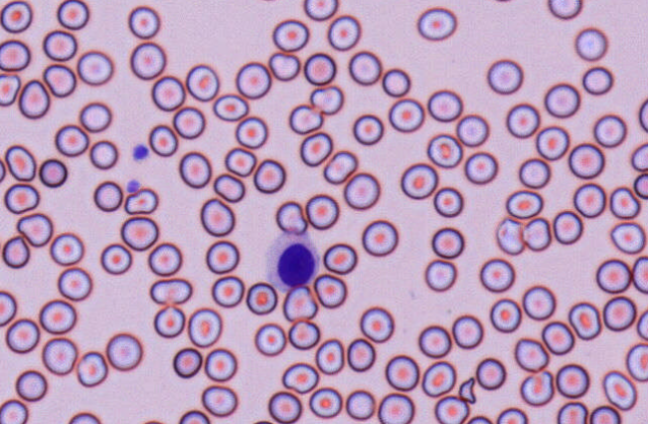MONO: (264, 231, 324, 292)
PLT: (131, 144, 149, 161), (125, 179, 141, 194)
RBC: (105, 332, 143, 371), (129, 41, 166, 80), (416, 6, 457, 41), (400, 162, 438, 199), (343, 172, 380, 210), (187, 307, 222, 347), (602, 370, 637, 410), (361, 219, 398, 256), (235, 61, 271, 99), (41, 337, 77, 375), (120, 215, 158, 251), (76, 49, 113, 85), (486, 58, 523, 94), (568, 142, 604, 179), (38, 299, 76, 334), (200, 197, 234, 236), (544, 82, 580, 118), (384, 354, 419, 391), (421, 360, 456, 397), (359, 305, 394, 342), (18, 79, 50, 119), (519, 370, 554, 406), (5, 317, 40, 353), (426, 133, 462, 168), (595, 258, 631, 293), (185, 64, 219, 101), (272, 18, 309, 52), (57, 266, 92, 301), (479, 257, 514, 292), (305, 193, 339, 229), (151, 75, 185, 111), (602, 295, 636, 331), (505, 102, 539, 138), (327, 14, 361, 50), (388, 98, 424, 132), (201, 384, 238, 417), (178, 151, 211, 188), (535, 125, 569, 160), (147, 242, 182, 276), (514, 337, 548, 372), (555, 363, 589, 398), (522, 284, 555, 320), (573, 182, 606, 218), (76, 350, 108, 387), (4, 144, 36, 181), (205, 240, 239, 274), (455, 113, 489, 147), (234, 115, 268, 149), (593, 113, 627, 147), (574, 27, 608, 61), (541, 320, 574, 355), (313, 273, 346, 308), (299, 131, 332, 166), (49, 232, 84, 265), (204, 347, 237, 382), (267, 390, 302, 423), (427, 89, 462, 122), (348, 50, 381, 85), (610, 221, 645, 254), (377, 392, 414, 423), (464, 151, 498, 184), (418, 324, 451, 358), (172, 105, 205, 139), (127, 5, 160, 39), (42, 29, 77, 61), (322, 242, 357, 274), (451, 314, 483, 349), (489, 297, 521, 332), (505, 189, 543, 218), (99, 242, 132, 275), (303, 52, 336, 85), (254, 322, 286, 356), (245, 281, 277, 315), (308, 386, 342, 418), (54, 124, 88, 156), (4, 183, 39, 214), (552, 209, 583, 244), (211, 275, 244, 307), (153, 305, 185, 338), (424, 258, 456, 291), (0, 0, 32, 33), (431, 226, 464, 258), (315, 338, 344, 374), (15, 369, 47, 401), (287, 318, 320, 349), (475, 357, 506, 390), (79, 101, 112, 132), (609, 186, 640, 219), (346, 337, 375, 372), (212, 93, 248, 121), (352, 113, 383, 145), (224, 146, 256, 177), (518, 157, 550, 188), (56, 0, 89, 30), (522, 217, 551, 251), (434, 395, 469, 423), (0, 39, 30, 71), (148, 124, 178, 156), (172, 347, 202, 378), (433, 186, 463, 217), (345, 389, 375, 420), (93, 180, 123, 211), (2, 235, 30, 268), (582, 66, 613, 95), (381, 67, 410, 97), (89, 139, 118, 169), (625, 342, 647, 381), (38, 158, 67, 187), (556, 401, 588, 423), (0, 398, 28, 423), (303, 0, 338, 20), (547, 0, 582, 19), (0, 73, 20, 106), (631, 255, 647, 293), (589, 404, 621, 423), (0, 289, 16, 326), (496, 407, 528, 423), (630, 142, 647, 172), (178, 409, 210, 423), (67, 411, 101, 423), (633, 172, 647, 199), (636, 308, 647, 340), (638, 97, 647, 132), (466, 415, 492, 423), (0, 157, 6, 182), (141, 419, 165, 424), (252, 419, 274, 424), (484, 0, 517, 2), (253, 0, 283, 2)
Schistocyte: (283, 284, 320, 323), (16, 212, 53, 248), (496, 216, 527, 257), (309, 83, 345, 118), (323, 149, 358, 185), (43, 62, 77, 99), (568, 302, 602, 339), (276, 200, 309, 235), (149, 278, 192, 304), (289, 105, 325, 135), (284, 362, 318, 393), (268, 52, 301, 82), (214, 173, 245, 202), (126, 187, 157, 214), (457, 375, 479, 404)
